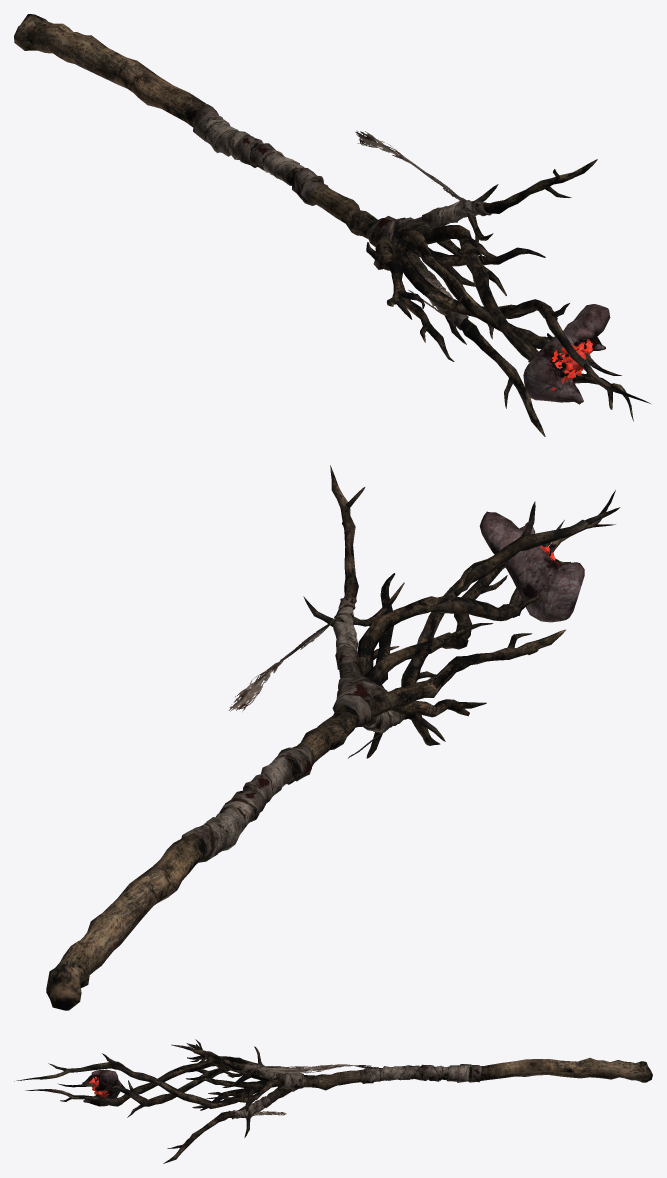
3 views of the same model, one above another, from view 1: azimuth 30°, elevation 25°; view 2: azimuth 150°, elevation 25°; view 3: azimuth 270°, elevation 25° (orthographic). The views are drawn at different scales.
Visible parts, largest first — view 1: WP_A_1316, WP_A_1316.001; view 2: WP_A_1316, WP_A_1316.001; view 3: WP_A_1316, WP_A_1316.001.
Part boxes in pixels (x1,y1,x2,y2): WP_A_1316: [14, 14, 650, 436]; WP_A_1316.001: [192, 104, 491, 330]; WP_A_1316: [46, 465, 620, 1010]; WP_A_1316.001: [181, 596, 406, 862]; WP_A_1316: [14, 1039, 652, 1163]; WP_A_1316.001: [228, 1063, 481, 1119].
Size of the model in its own units: 64.09 by 72.37 by 303.
Materials: 3 (3 with a texture image).
